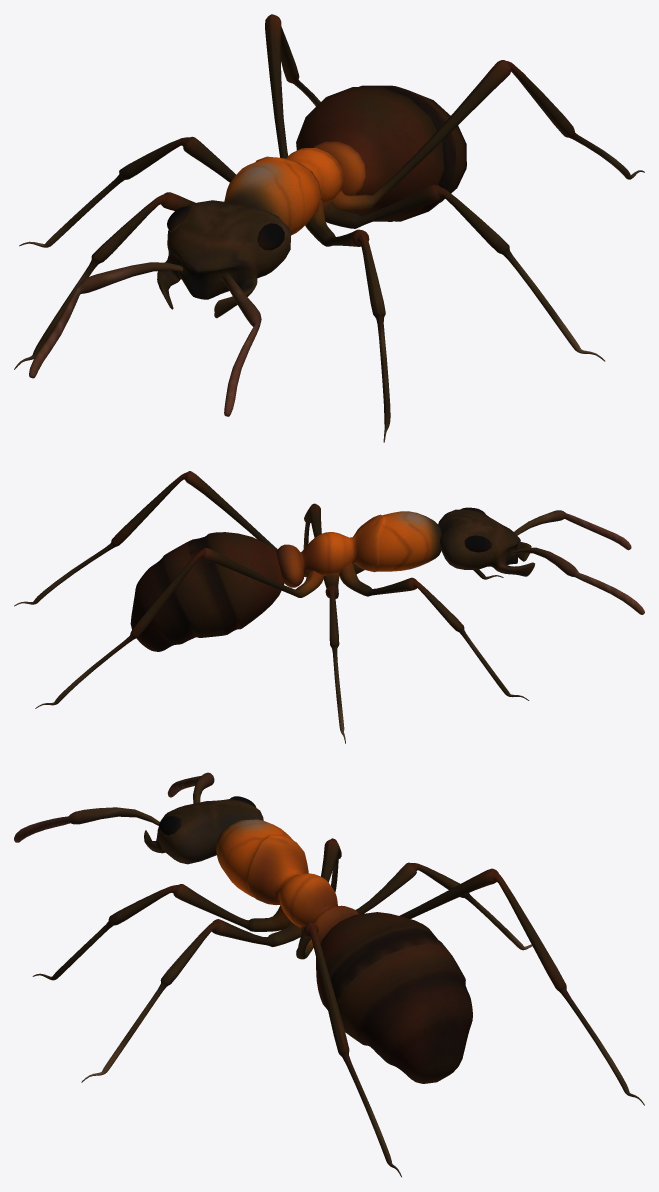
Rendered from ant.glb.
3 renders of one model, top to bottom at view 1: azimuth 30°, elevation 25°; view 2: azimuth 150°, elevation 25°; view 3: azimuth 270°, elevation 25°, orthographic. The views are drawn at different scales.
Parts seen in each view (by area): view 1: Ant; view 2: Ant; view 3: Ant.
Boxes of the visible parts, x1,y1,x2,y2 form: Ant: (14, 14, 644, 442); Ant: (14, 471, 644, 743); Ant: (14, 772, 644, 1177).
Size of the model in its own units: 0.0277 by 0.00701 by 0.0232.
1 material, 1 textured.
